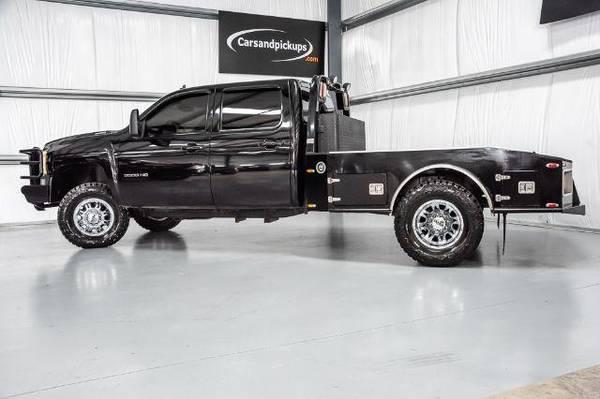Front_Bumper: (27, 183, 50, 204)
Front_Fender: (31, 129, 126, 203)
Front_Left_Door: (113, 133, 217, 208)
Front_Left_Window: (123, 84, 218, 133)
Rear_Fender: (306, 146, 584, 214)
Rear_Left_Door: (212, 131, 298, 209)
Rear_Left_Window: (214, 81, 300, 133)
Wheel: (394, 177, 486, 266), (57, 183, 127, 248)
